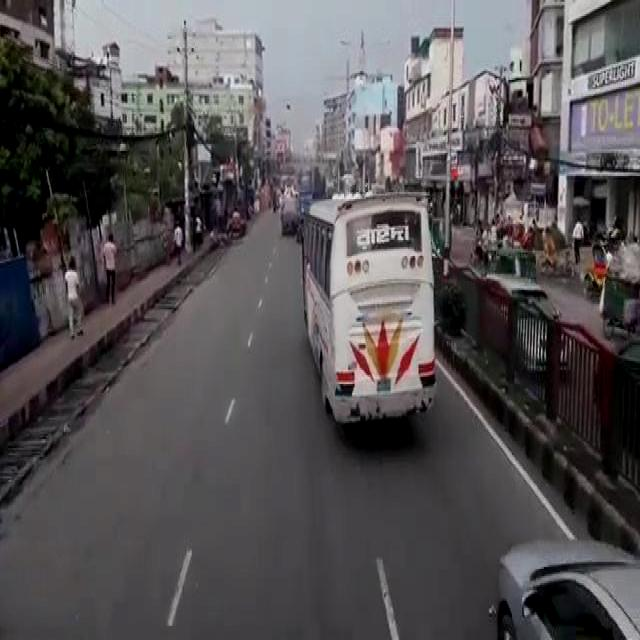BUS: (301, 190, 441, 443)
